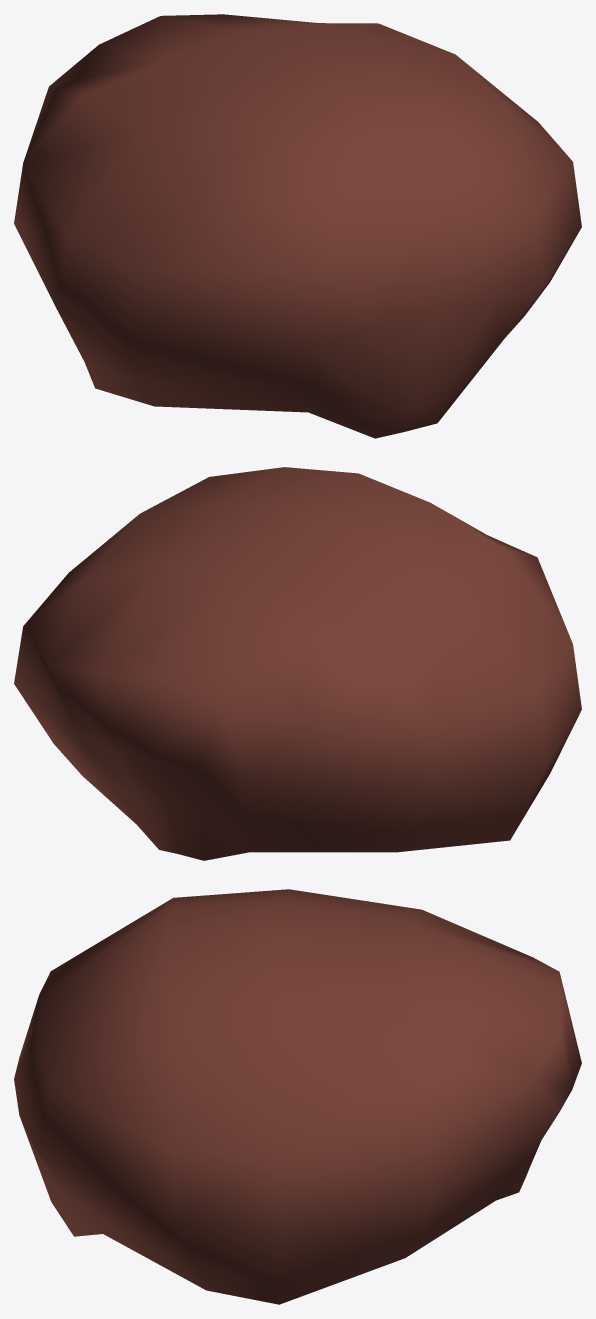
The model's file is coral06.fbx.
The picture shows the model from 3 angles, top to bottom: view 1: azimuth 30°, elevation 25°; view 2: azimuth 150°, elevation 25°; view 3: azimuth 270°, elevation 25°; orthographic projection.
Visible parts, largest first — view 1: Coral01_low; view 2: Coral01_low; view 3: Coral01_low.
Part boxes in pixels (bbox=[...]): Coral01_low: bbox=[14, 14, 581, 438]; Coral01_low: bbox=[14, 467, 581, 860]; Coral01_low: bbox=[14, 889, 581, 1304].
Size of the model in its own units: 261 by 152 by 264.
